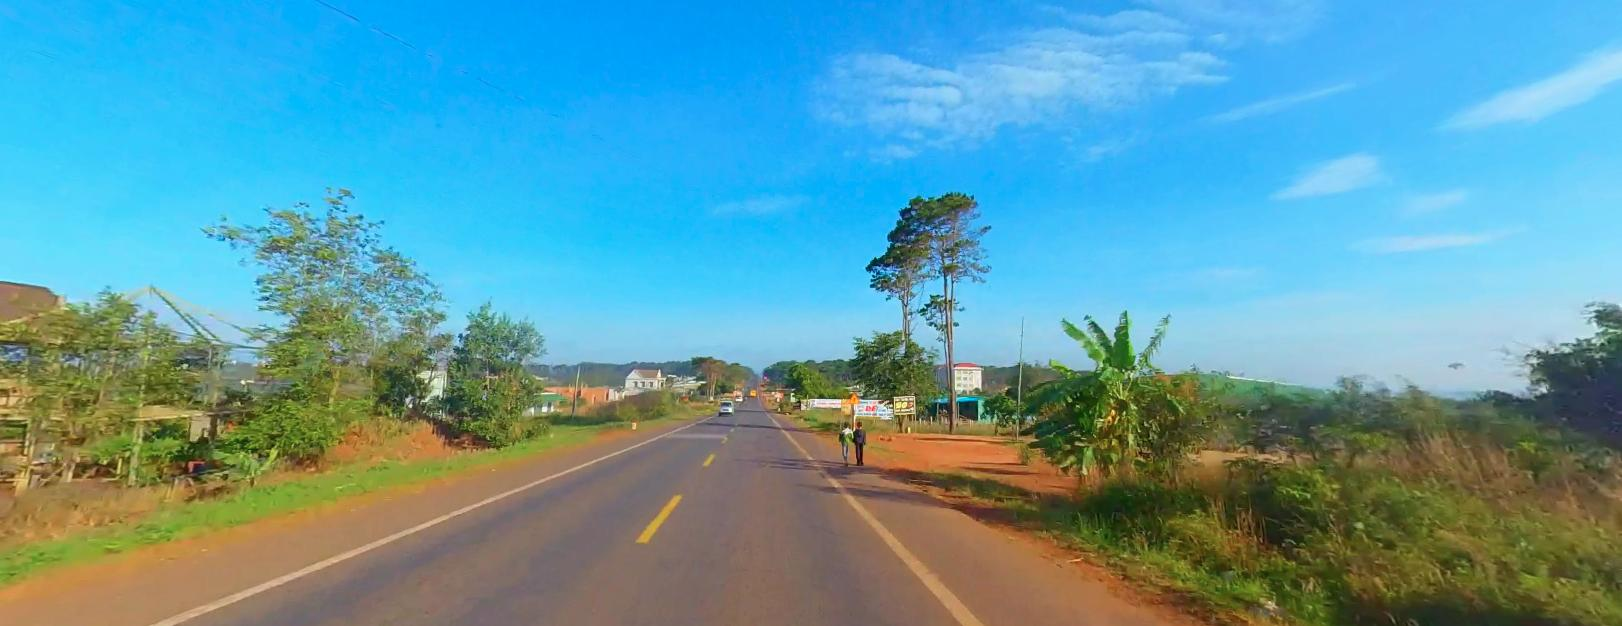Nguy hiem: (847, 391, 858, 403)
